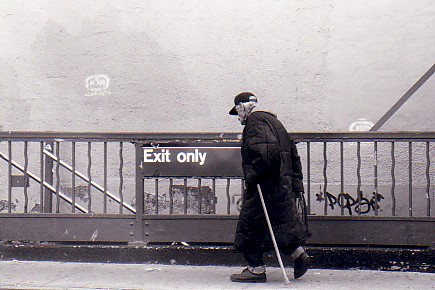person: (231, 94, 310, 282)
